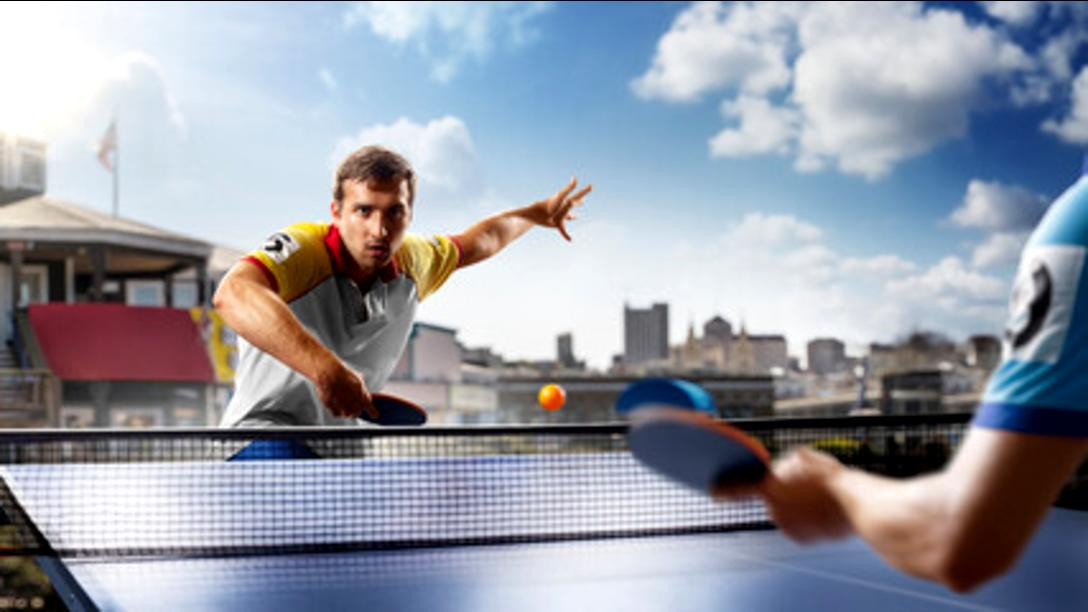Table-Tennis-Ball: (539, 384, 565, 410)
